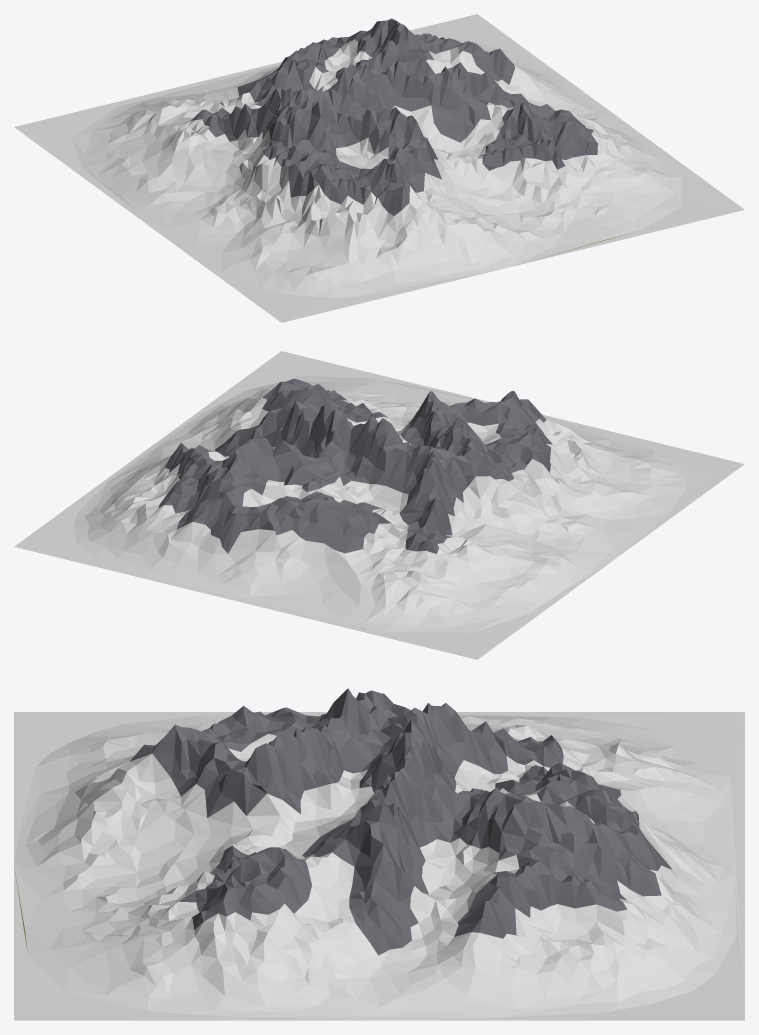
The model's file is Landscape_01.fbx.
3 views of the same model, one above another, from view 1: azimuth 30°, elevation 25°; view 2: azimuth 150°, elevation 25°; view 3: azimuth 270°, elevation 25° (orthographic). The views are drawn at different scales.
Visible parts, largest first — view 1: Landscape_01; view 2: Landscape_01; view 3: Landscape_01.
Part boxes in pixels (x1=…): Landscape_01: x1=14, y1=14, x2=744, y2=322; Landscape_01: x1=14, y1=351, x2=744, y2=659; Landscape_01: x1=14, y1=688, x2=744, y2=1020.
Bounding box in the file's own units: 10000 × 2055 × 10000.
